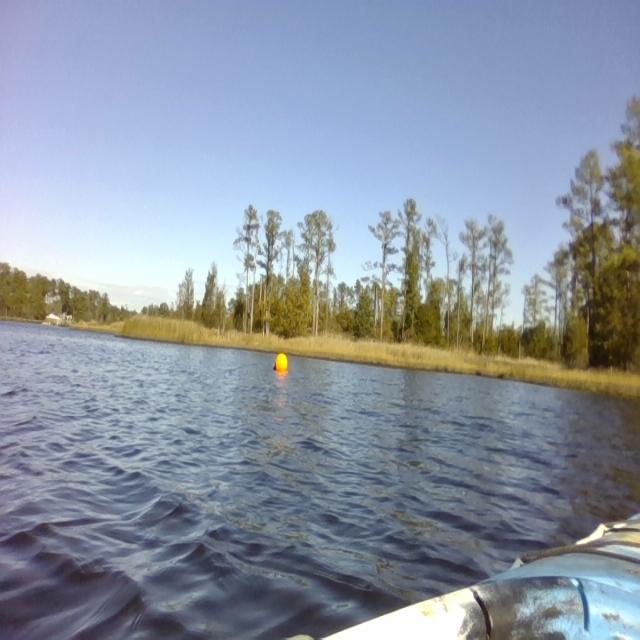Buoy: (272, 347, 292, 379)
